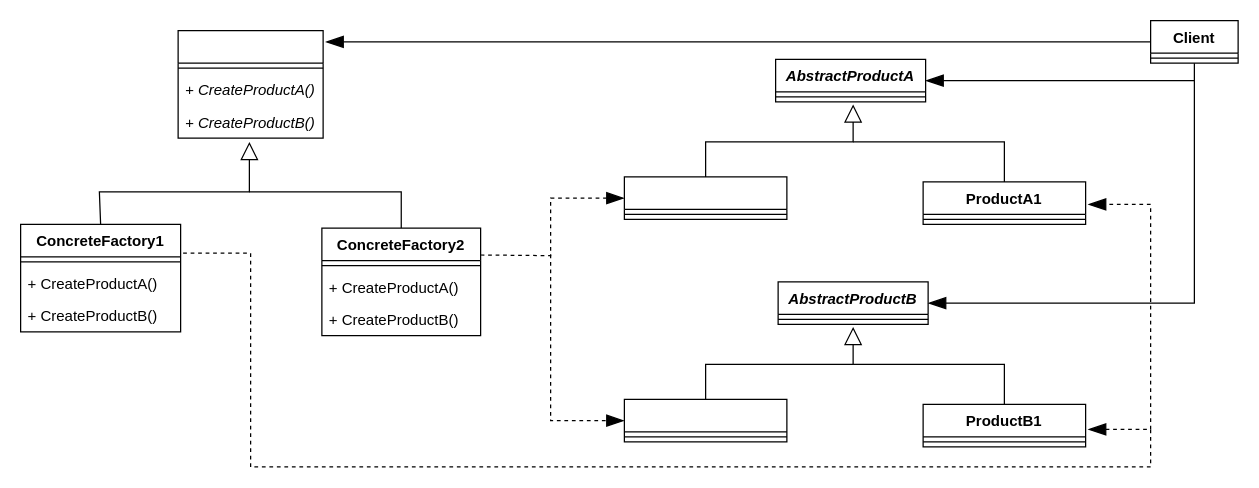
The diagram is 1259 pixels wide and 488 high, and some of its shapes have lost their labels. The box of each missing label's shape, as (x1, y1, x2, y2) in pixels:
AbstracFactory: (177, 29, 323, 138)
ProductA2: (623, 176, 787, 219)
ProductB2: (623, 398, 787, 442)
